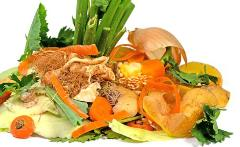organic: (128, 22, 188, 56), (193, 104, 237, 147), (25, 1, 47, 51), (76, 1, 100, 45), (91, 98, 115, 123), (10, 118, 38, 138), (2, 84, 12, 108)
